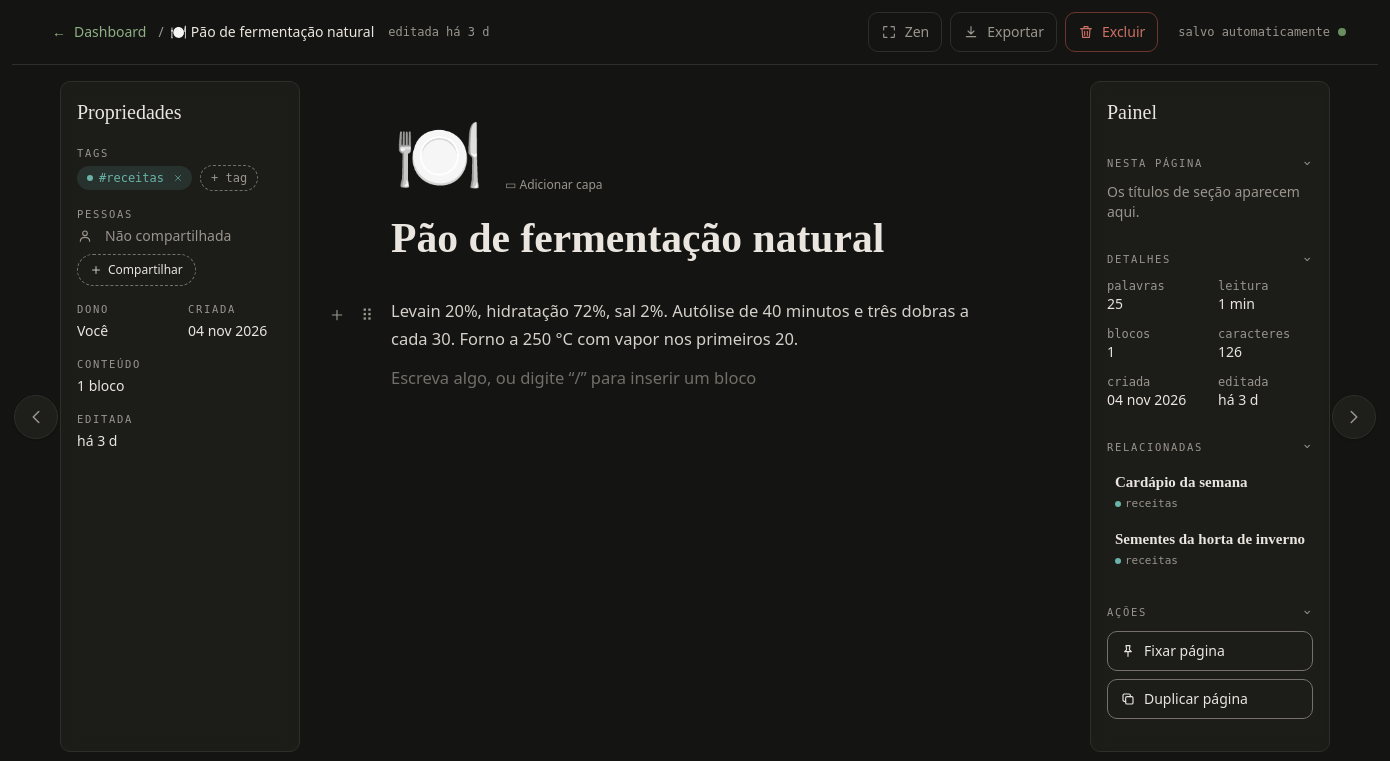
Test: Editor — inserir blocos › no limite de blocos avisa em vez de criar
Type "/" into the text box named "Nova linha".
click(695, 378); type("/")  # box [391,364,999,392]
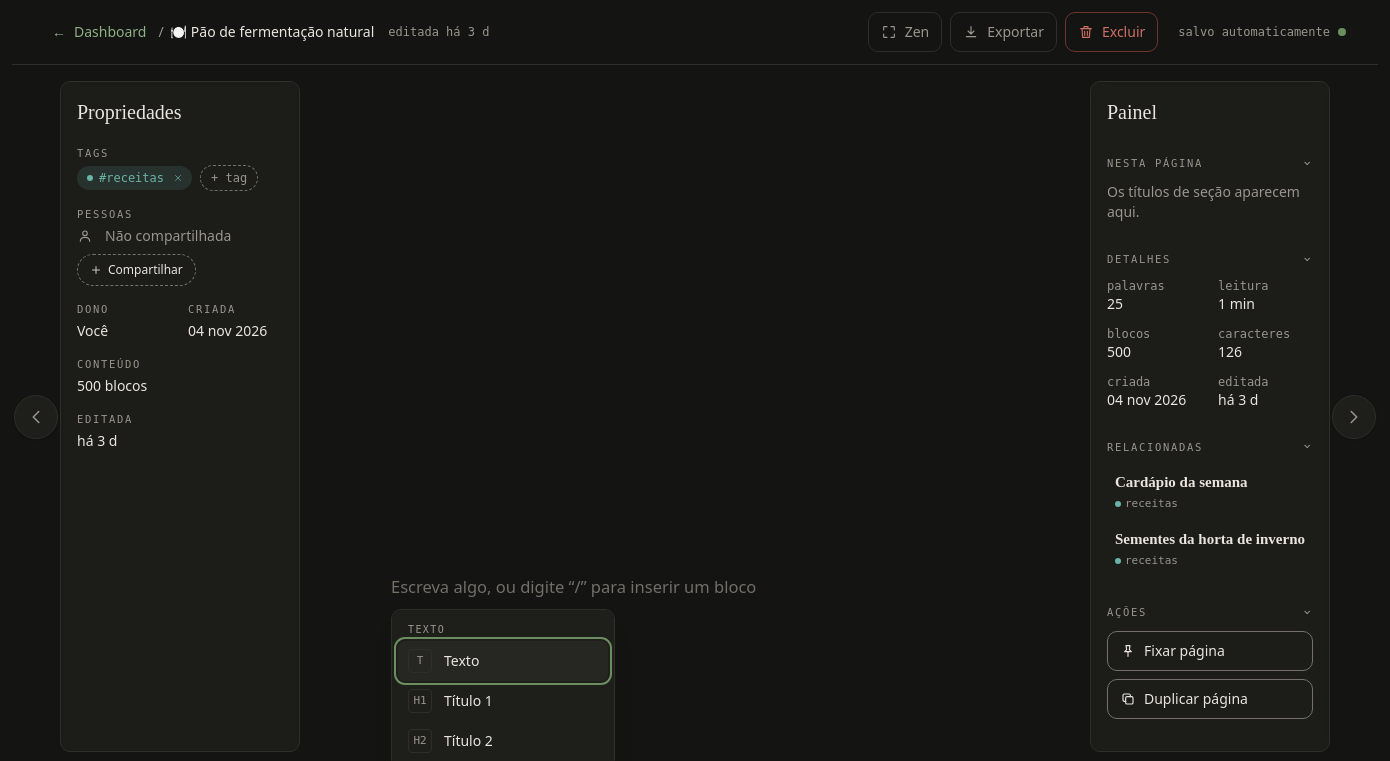
Click the menu item "T Texto".
click(503, 661)  # box [398,641,608,681]
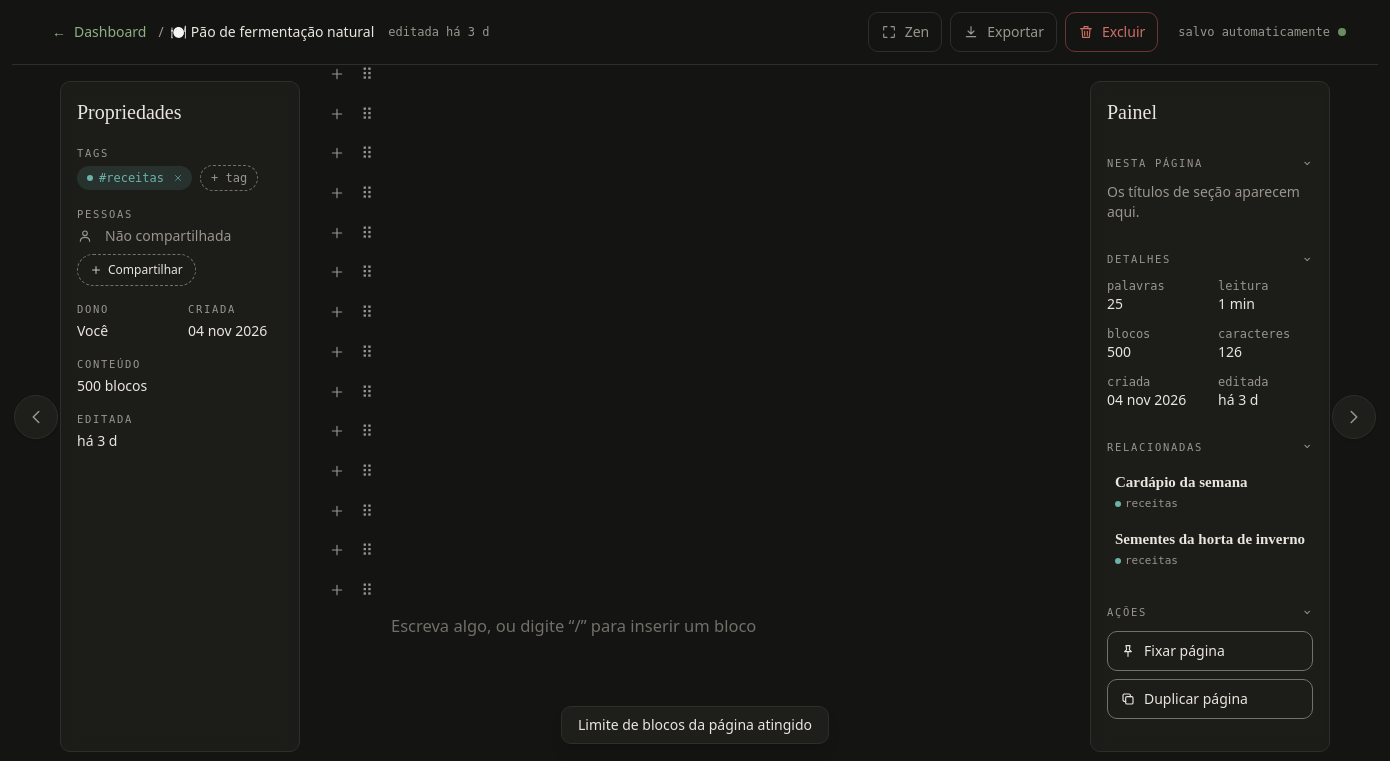
Result: the text "Limite" is shown at [578,715,812,734]
